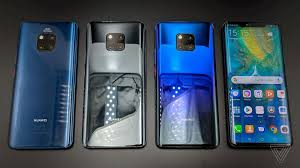huawei: (223, 17, 294, 148), (8, 19, 75, 151), (80, 19, 147, 151), (152, 17, 219, 149)
